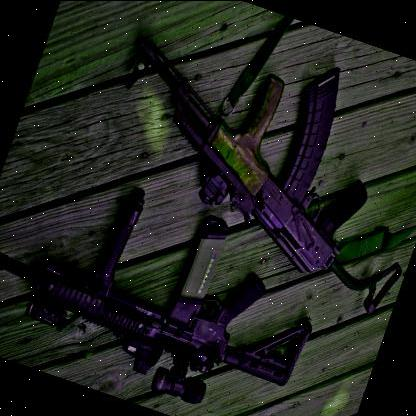rifle: (80, 0, 416, 326), (0, 138, 342, 416)
